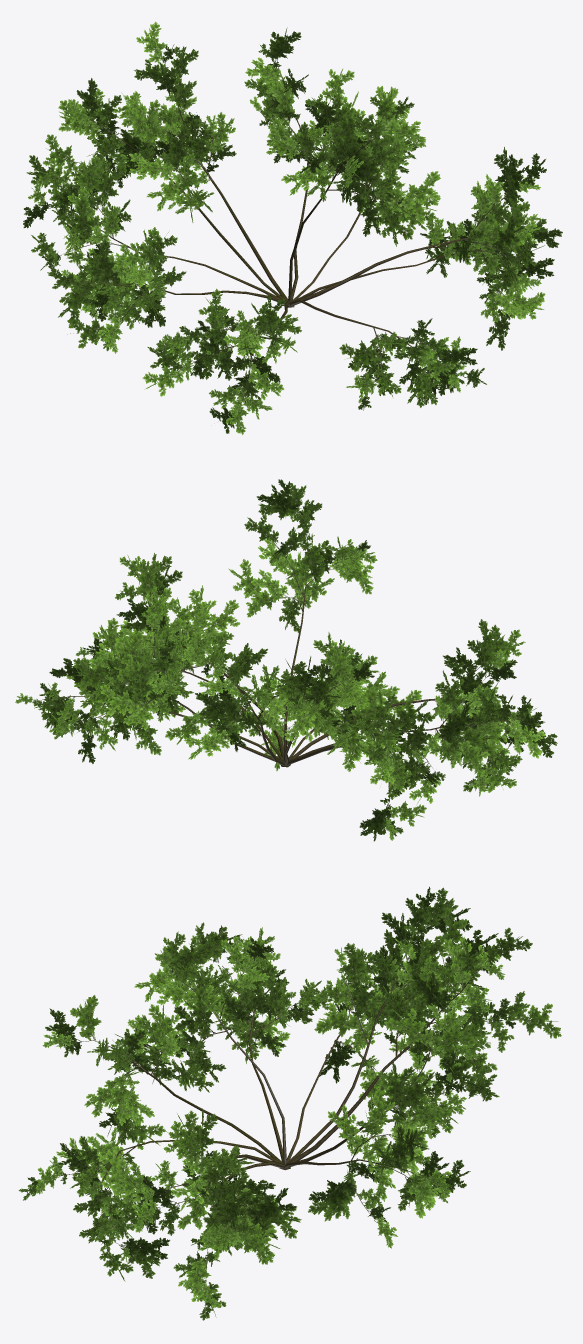
Rendered from SM_Bush_B_ez.gltf.
3 views of the same model, one above another, from view 1: azimuth 30°, elevation 25°; view 2: azimuth 150°, elevation 25°; view 3: azimuth 270°, elevation 25° (orthographic). The views are drawn at different scales.
Parts seen in each view (by area): view 1: SM_Bush_B_ez; view 2: SM_Bush_B_ez; view 3: SM_Bush_B_ez.
Boxes of the visible parts, left/top/right/bottom form: SM_Bush_B_ez: left=23, top=21, right=562, bottom=434; SM_Bush_B_ez: left=15, top=479, right=557, bottom=841; SM_Bush_B_ez: left=18, top=886, right=561, bottom=1320.
Bounding box in the file's own units: 1.62 × 1 × 1.45.
Materials: 2 (2 with a texture image).
